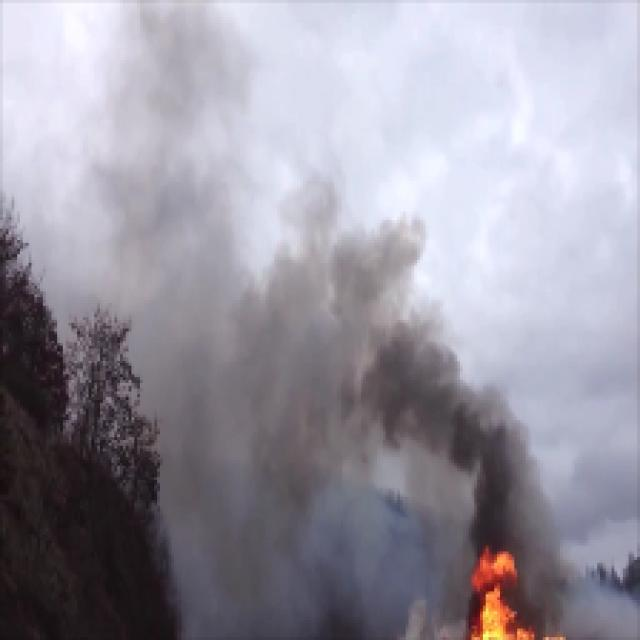fire: (474, 556, 516, 640)
smoke: (372, 339, 464, 441), (468, 419, 530, 548)
